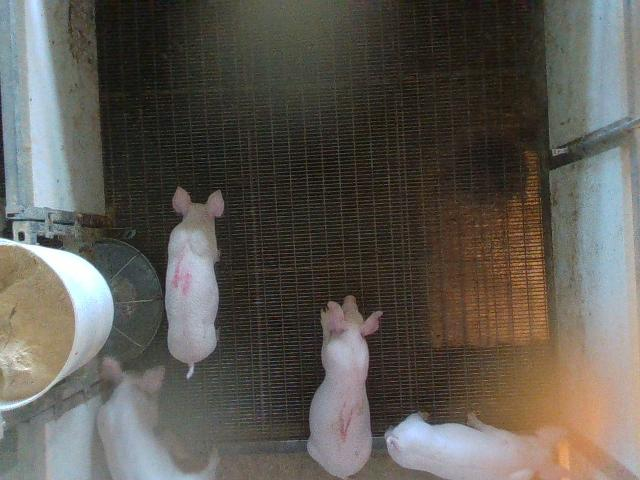pig-1: (308, 296, 382, 477)
pig-4: (165, 186, 224, 378)
